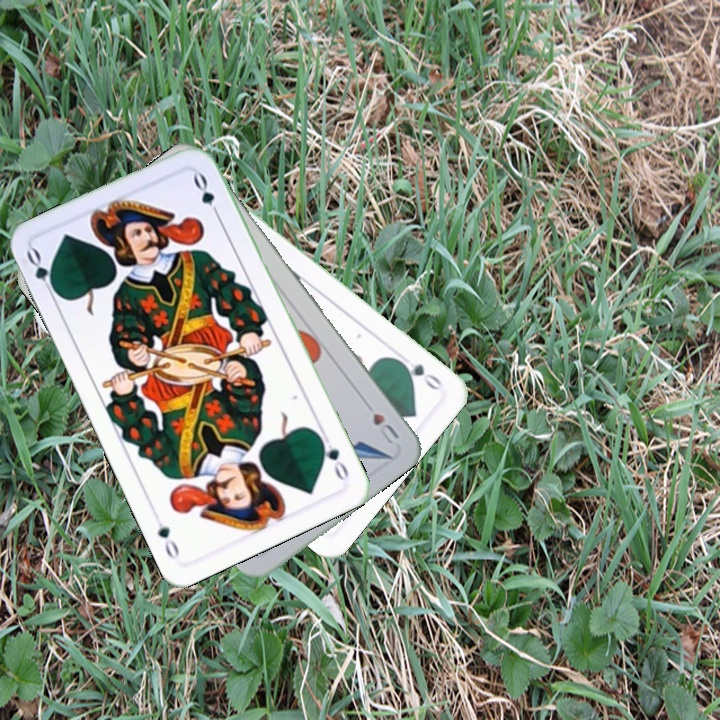GO: (22, 244, 62, 301), (314, 428, 352, 484), (393, 355, 445, 393)
HU: (368, 409, 402, 447)
